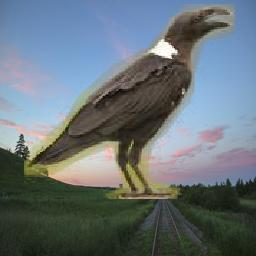Crow: (25, 5, 236, 200)
